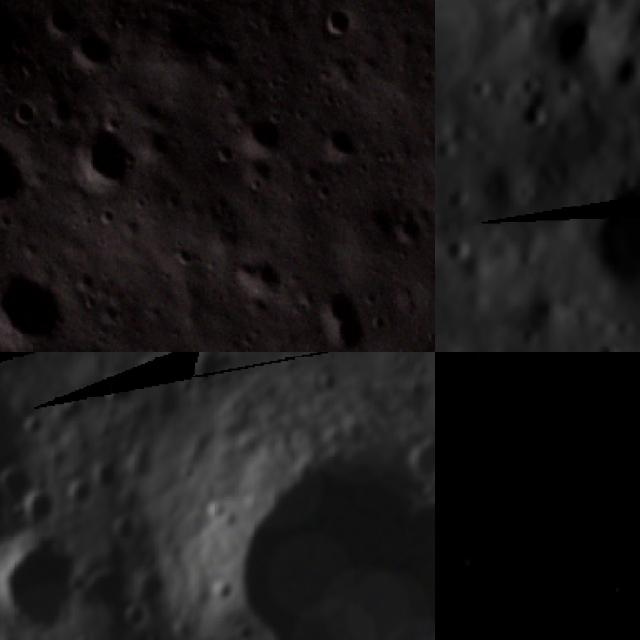crater: (172, 361, 435, 640), (554, 150, 640, 330), (531, 0, 632, 101), (0, 527, 98, 631), (64, 114, 136, 201), (0, 269, 73, 352), (0, 124, 37, 221), (67, 28, 123, 84), (238, 106, 293, 161), (302, 284, 363, 329), (436, 227, 486, 278), (317, 119, 366, 168), (311, 0, 362, 42), (391, 202, 434, 245), (34, 2, 80, 40), (4, 90, 39, 136), (608, 580, 640, 623), (203, 135, 239, 172), (455, 461, 484, 503), (465, 352, 506, 381), (166, 242, 202, 273), (469, 553, 493, 588), (71, 267, 102, 294), (469, 0, 544, 11), (598, 553, 625, 582), (438, 390, 461, 421), (568, 592, 589, 617), (70, 344, 126, 352), (627, 615, 640, 640), (435, 591, 443, 623)
